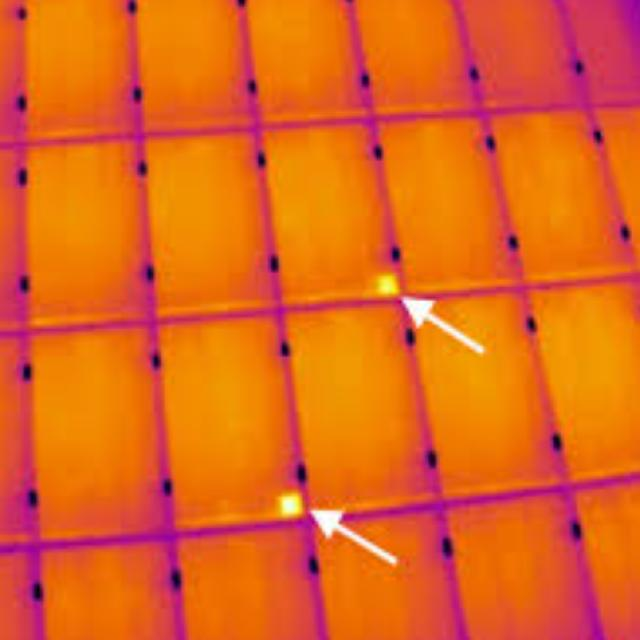hotspot group: (269, 486, 306, 521), (370, 270, 404, 301)
panel with hotspots: (158, 312, 310, 541), (261, 117, 408, 310)
